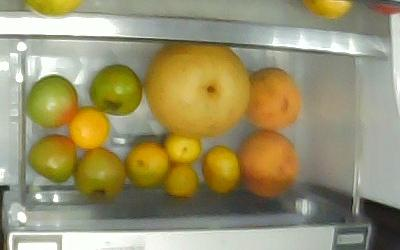peach: (234, 128, 298, 197), (242, 66, 301, 129)
pear: (143, 46, 251, 137)
tangerine: (123, 139, 170, 189), (201, 143, 241, 194), (68, 105, 109, 149), (161, 132, 202, 164), (163, 163, 198, 198)
tomato: (23, 73, 78, 128), (72, 145, 126, 201), (88, 62, 142, 115), (27, 132, 76, 183)
